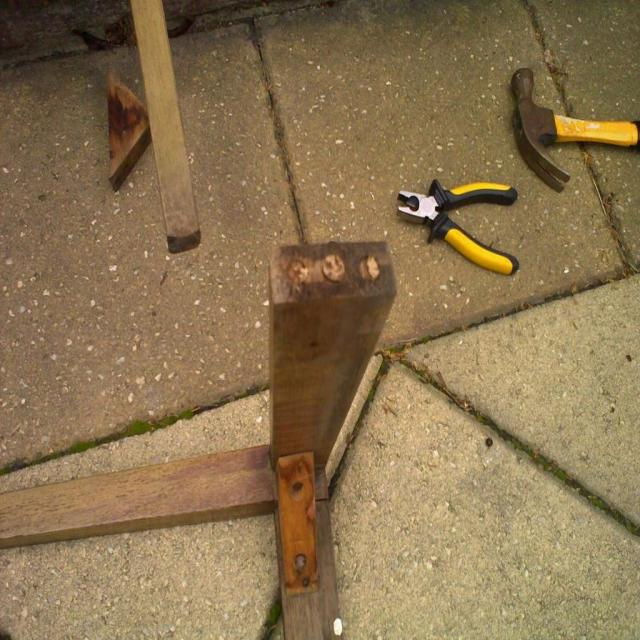hammer: (510, 62, 640, 191)
